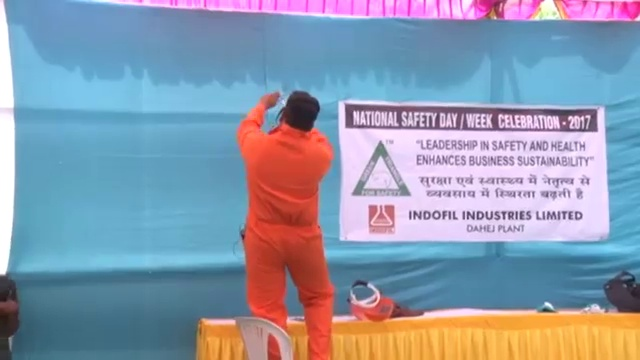helmet_off: (280, 90, 318, 133)
person: (237, 89, 340, 360)
